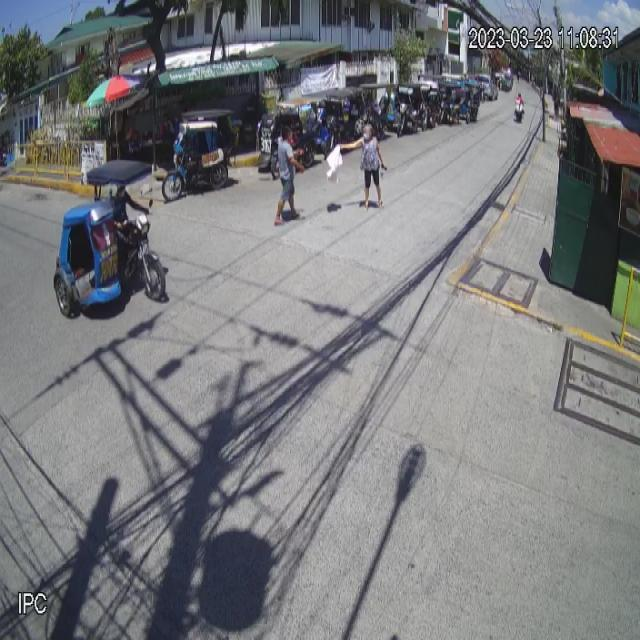Tricycle: (53, 158, 166, 316), (161, 109, 238, 203)
